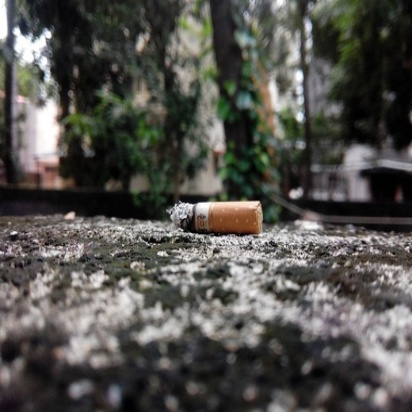cigarette: (163, 198, 270, 241)
